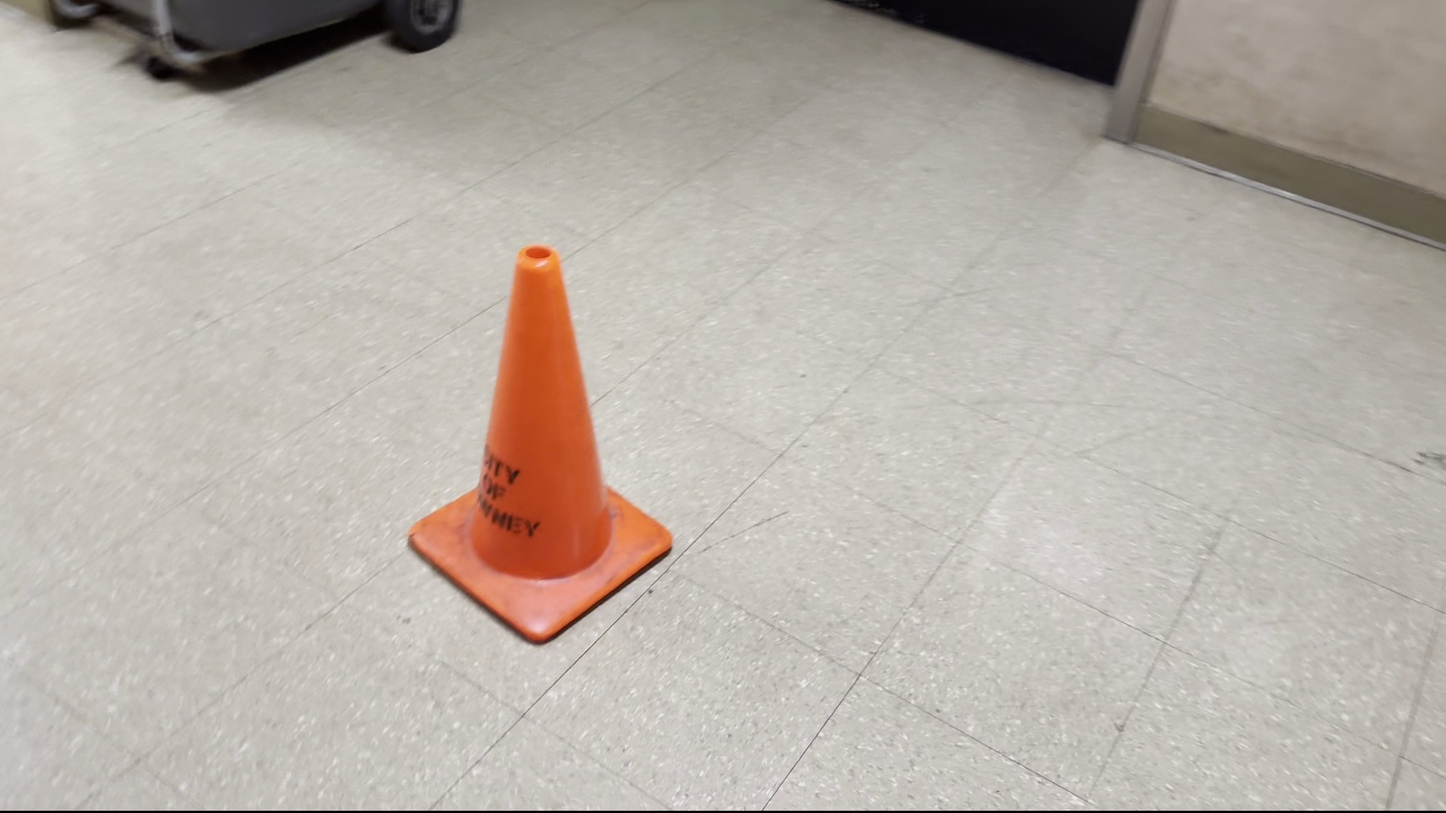traffic_cone: (406, 243, 674, 645)
